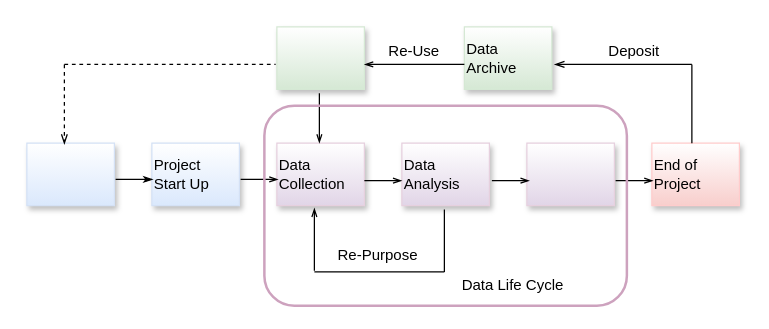
This 769x329 diagram has some shape labels left out. Each missing label, with the centre of its shape:
Data Discovery: the point at 321,59
Data Sharing: the point at 571,175
Proposal Planing Writing: the point at 71,175
